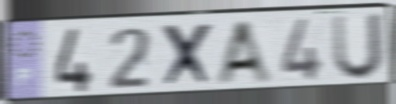2: (108, 26, 154, 92)
4: (279, 16, 324, 84), (53, 25, 94, 96)
A: (213, 18, 277, 86)
U: (329, 11, 386, 83)
X: (160, 20, 216, 91)
